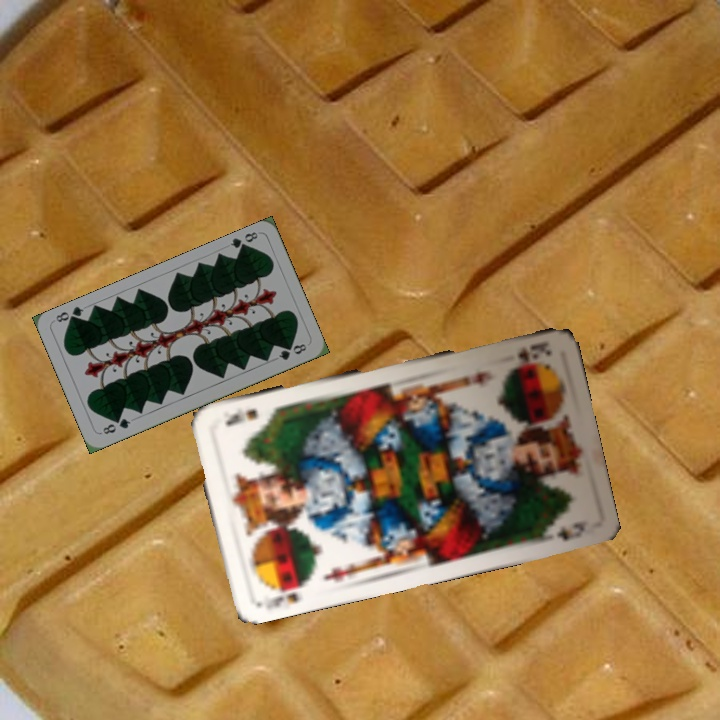G8: (226, 227, 260, 254), (99, 414, 133, 437)
SK: (250, 577, 308, 613), (514, 338, 554, 364)
